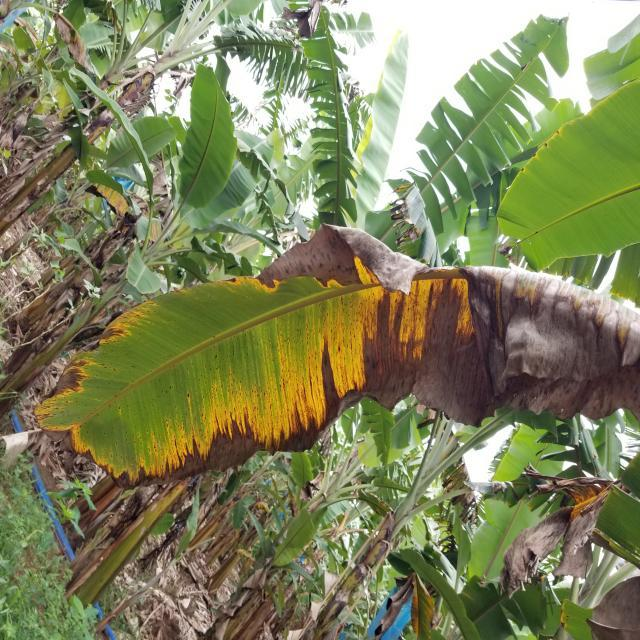Early_rust: (10, 225, 640, 504), (531, 445, 638, 556), (70, 149, 153, 236)
